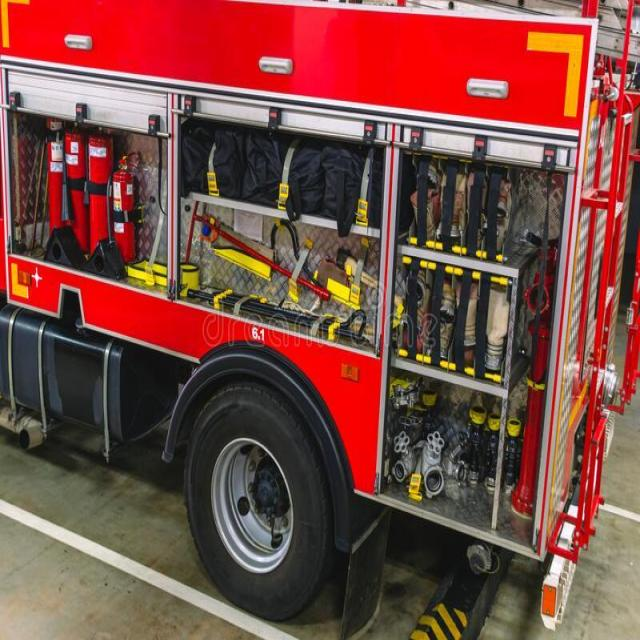fire_extinguisher: (105, 144, 146, 267), (59, 112, 93, 260), (41, 119, 75, 247), (86, 122, 115, 270)
